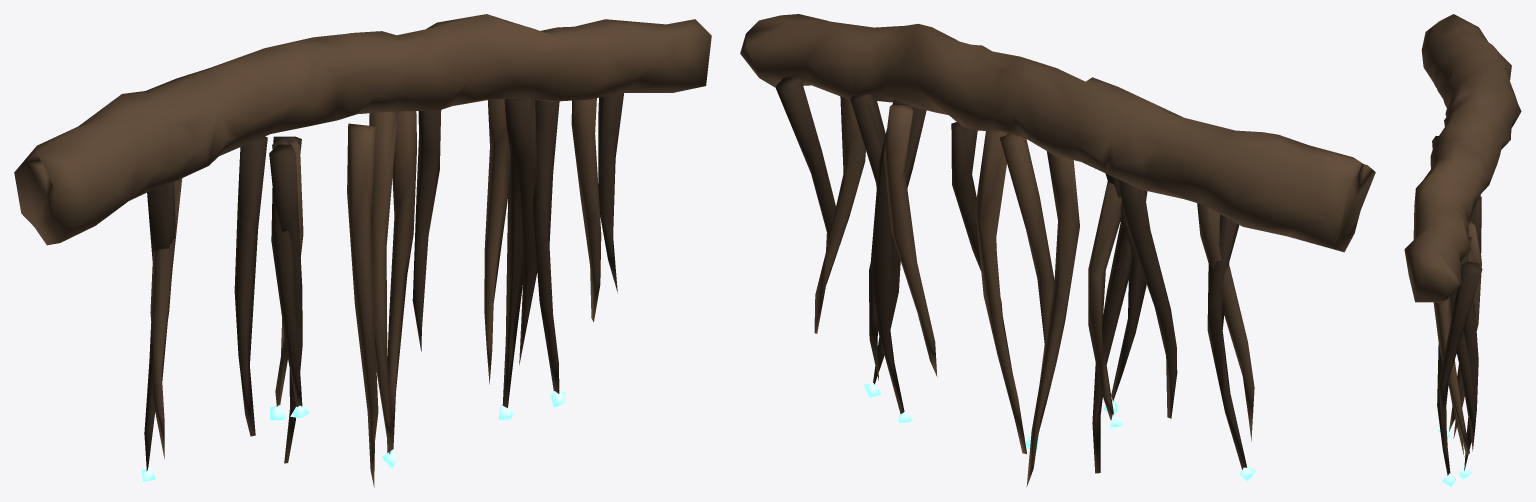
File: mire_root_tangle_lod2.glb
3 views of the same model, side by side, from view 1: azimuth 30°, elevation 25°; view 2: azimuth 150°, elevation 25°; view 3: azimuth 270°, elevation 25° (orthographic). The views are drawn at different scales.
Visible parts, largest first — view 1: mire_root_tangle.001; view 2: mire_root_tangle.001; view 3: mire_root_tangle.001.
Boxes of the visible parts, x1=… form: mire_root_tangle.001: x1=14, y1=14, x2=711, y2=487; mire_root_tangle.001: x1=740, y1=14, x2=1375, y2=486; mire_root_tangle.001: x1=1404, y1=14, x2=1521, y2=487.
Size of the model in its own units: 14.29 by 9.43 by 2.94.
